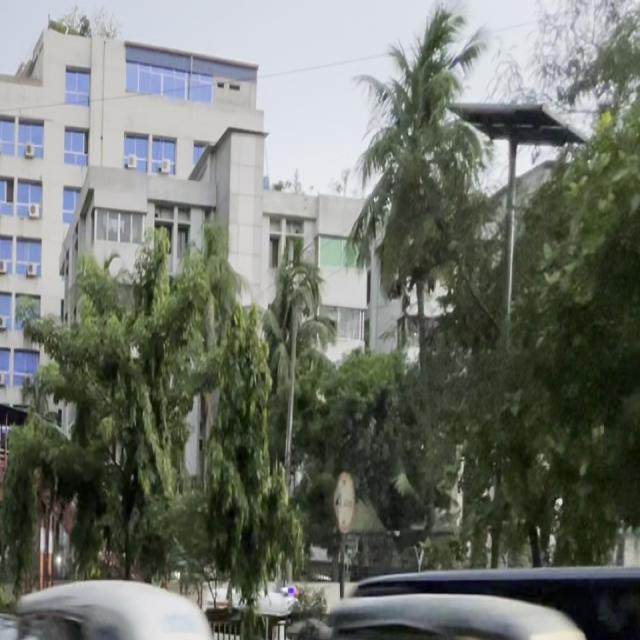car: (0, 583, 41, 640)
rickshaw: (275, 554, 636, 640), (0, 562, 254, 640)
